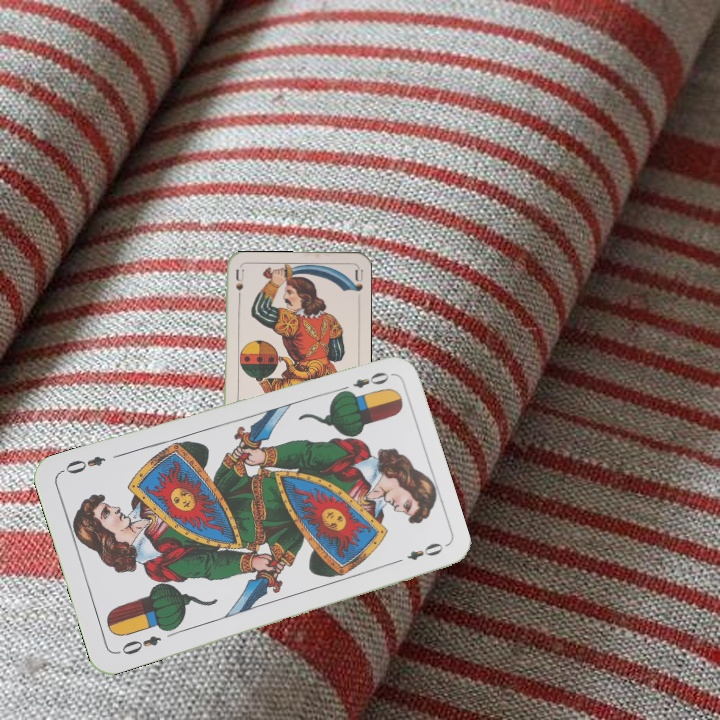EO: (334, 368, 392, 397), (113, 631, 164, 658)
SU: (232, 266, 246, 307)
